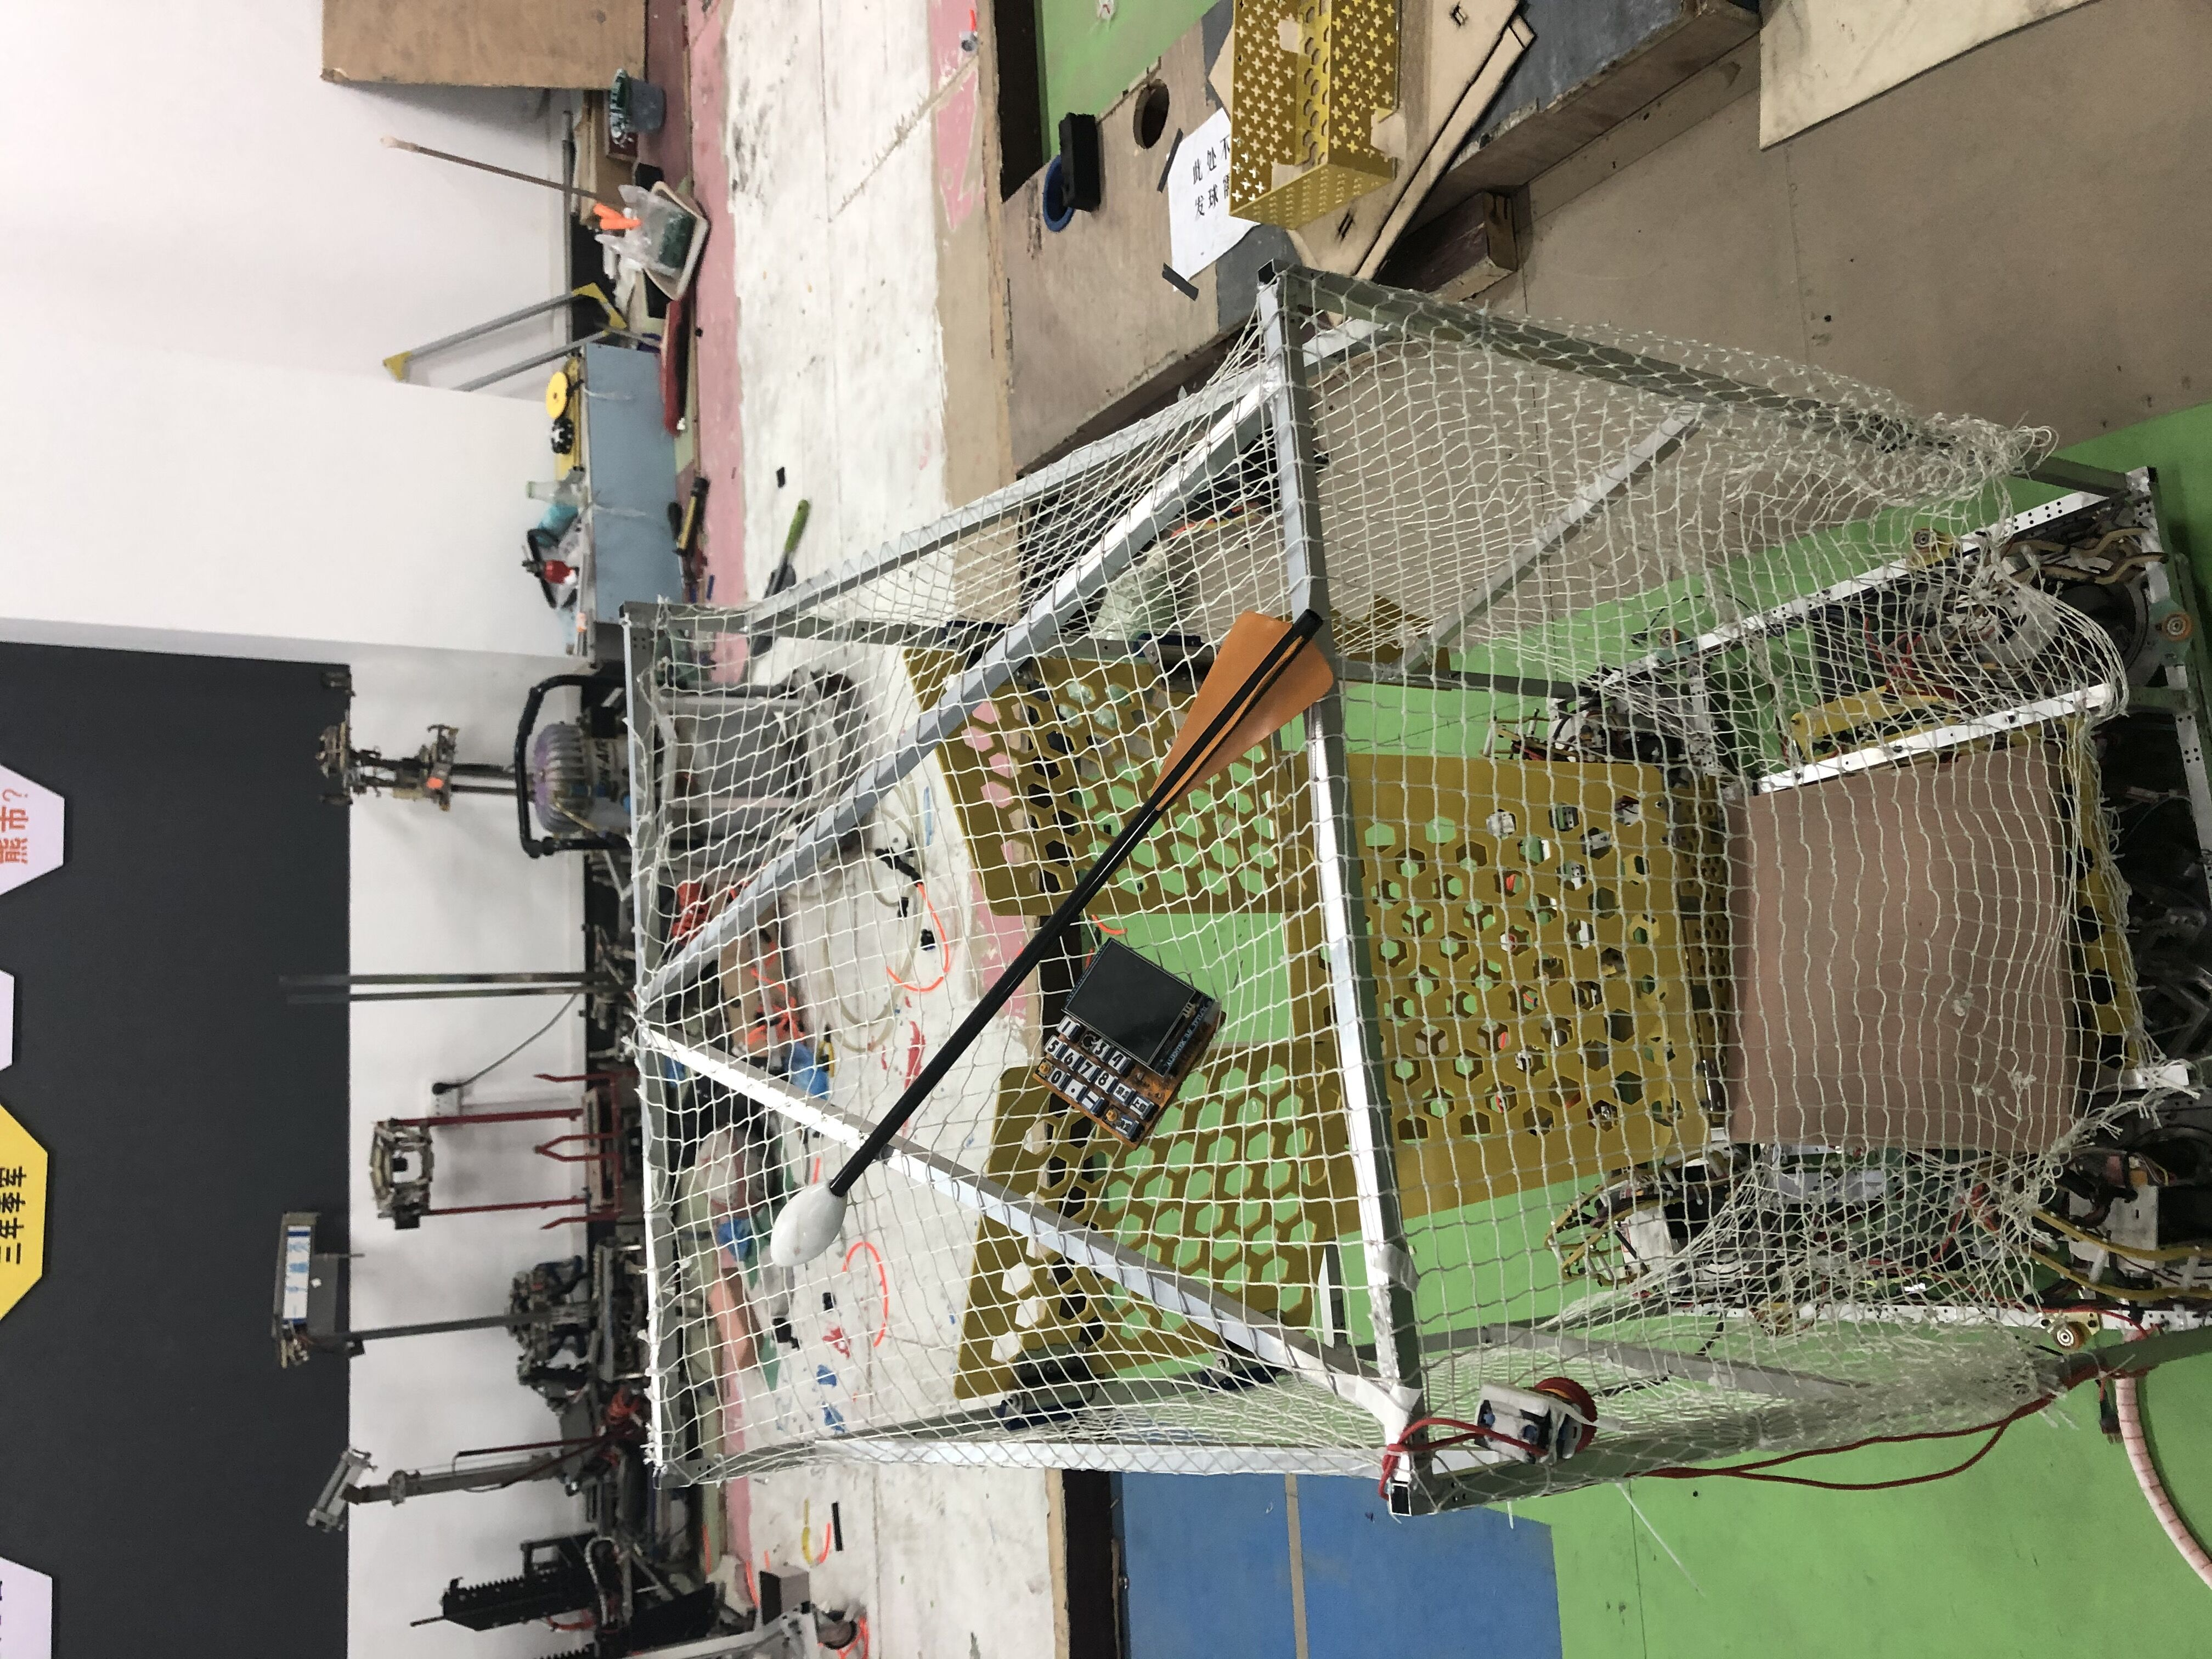arrow: (761, 598, 1339, 1277)
arrowFront: (763, 1182, 845, 1272)
